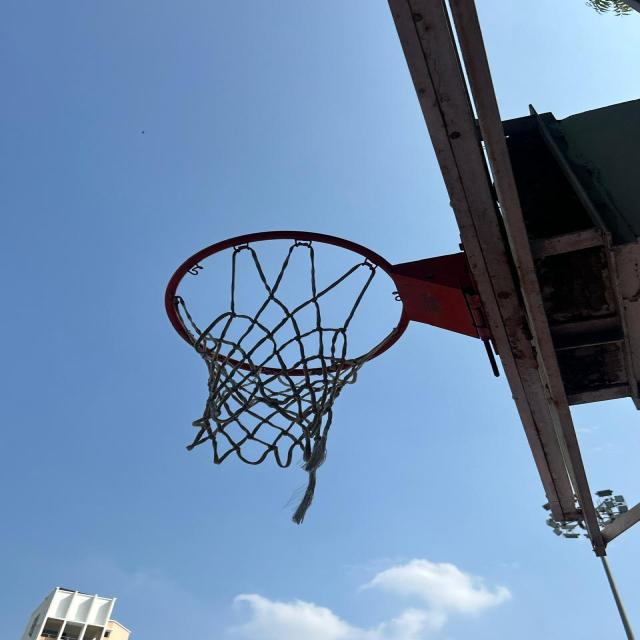hoop: (161, 233, 479, 482)
